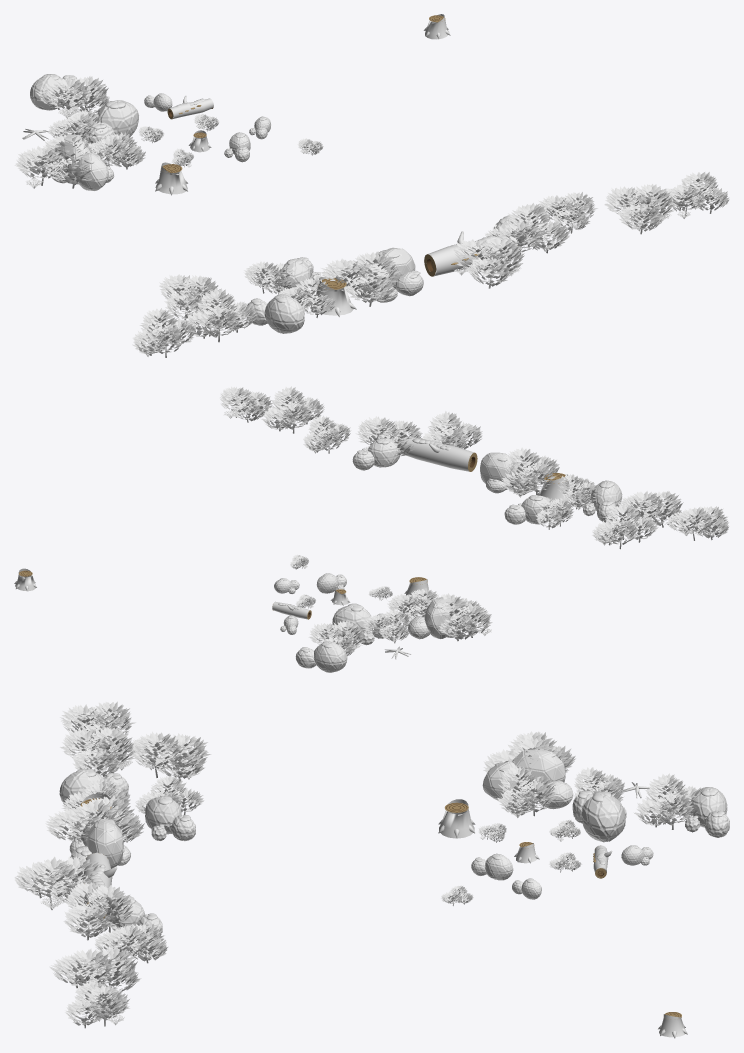
File: SM_NW_Nature_1_0_Macro.fbx
The picture shows the model from 3 angles, top to bottom: view 1: azimuth 30°, elevation 25°; view 2: azimuth 150°, elevation 25°; view 3: azimuth 270°, elevation 25°; orthographic projection. The views are drawn at different scales.
Visible parts, largest first — view 1: SM_NW_Nature_1_0_Macro; view 2: SM_NW_Nature_1_0_Macro; view 3: SM_NW_Nature_1_0_Macro.
Part boxes in pixels (x1,y1,x2,y2): SM_NW_Nature_1_0_Macro: (14, 14, 729, 357); SM_NW_Nature_1_0_Macro: (14, 386, 728, 672); SM_NW_Nature_1_0_Macro: (14, 701, 729, 1038).
Size of the model in its own units: 2965 by 2784 by 259.
